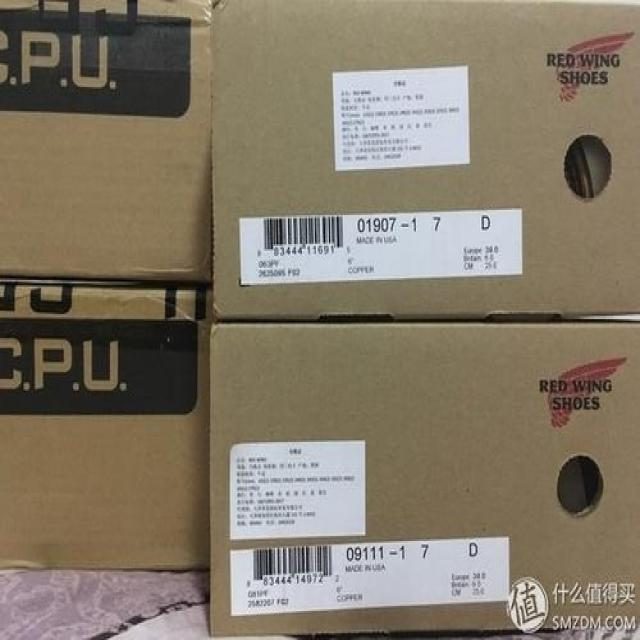box: (212, 0, 639, 324), (211, 317, 640, 637), (0, 282, 212, 570), (0, 0, 212, 287)
